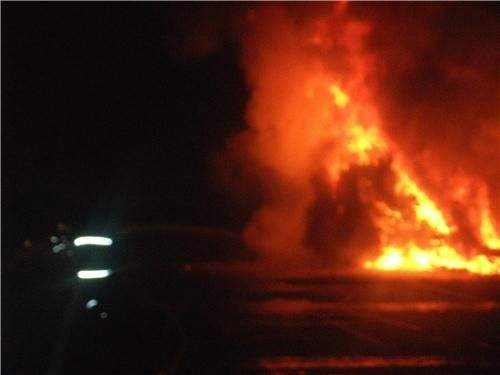fire: (320, 88, 500, 278)
